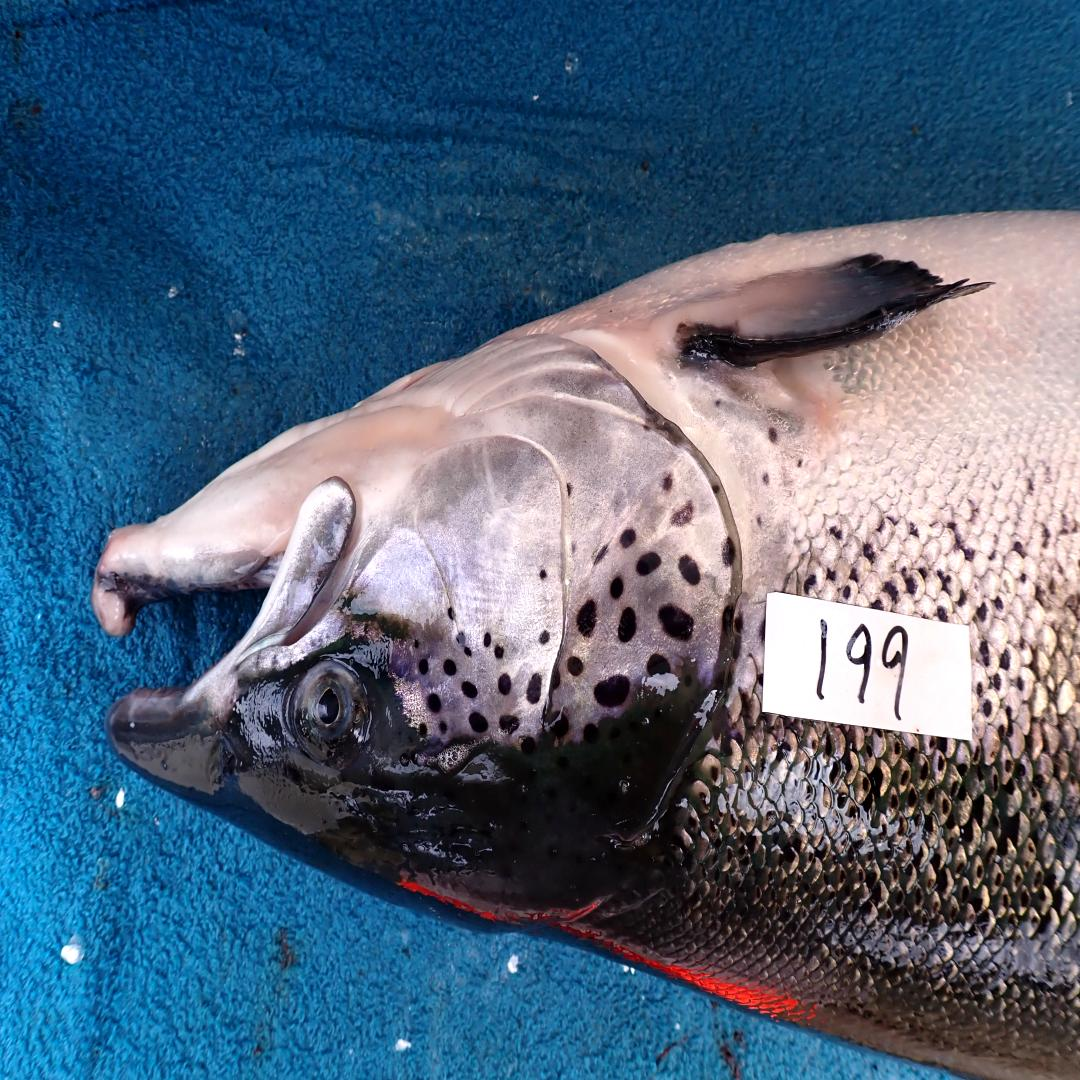roi: (347, 331, 743, 745)
